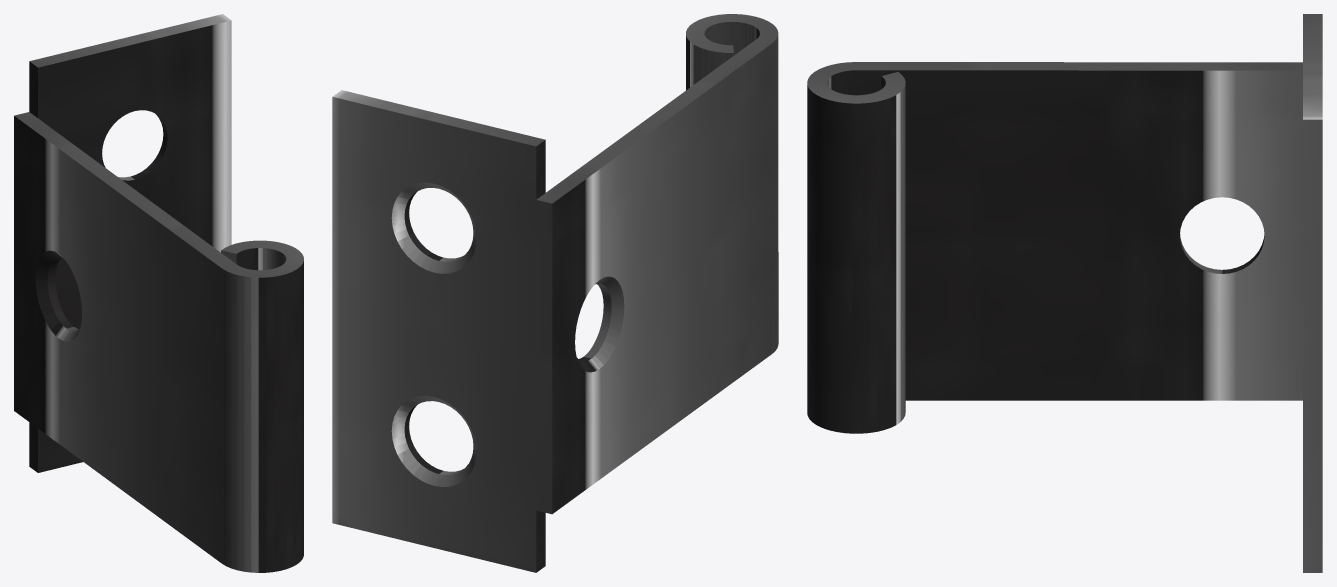
The model's file is original-36.obj.
3 renders of one model, left to right at view 1: azimuth 30°, elevation 25°; view 2: azimuth 150°, elevation 25°; view 3: azimuth 270°, elevation 25°, orthographic. The views are drawn at different scales.
Visible parts, largest first — view 1: Union/mesh28/mesh28-geometry#mesh28-geometry; view 2: Union/mesh28/mesh28-geometry#mesh28-geometry; view 3: Union/mesh28/mesh28-geometry#mesh28-geometry.
Part boxes in pixels (x1,y1,x2,y2): Union/mesh28/mesh28-geometry#mesh28-geometry: (14,14,303,572); Union/mesh28/mesh28-geometry#mesh28-geometry: (332,14,778,572); Union/mesh28/mesh28-geometry#mesh28-geometry: (807,14,1322,572).
Size of the model in its own units: 0.018 by 0.0333 by 0.0343.
